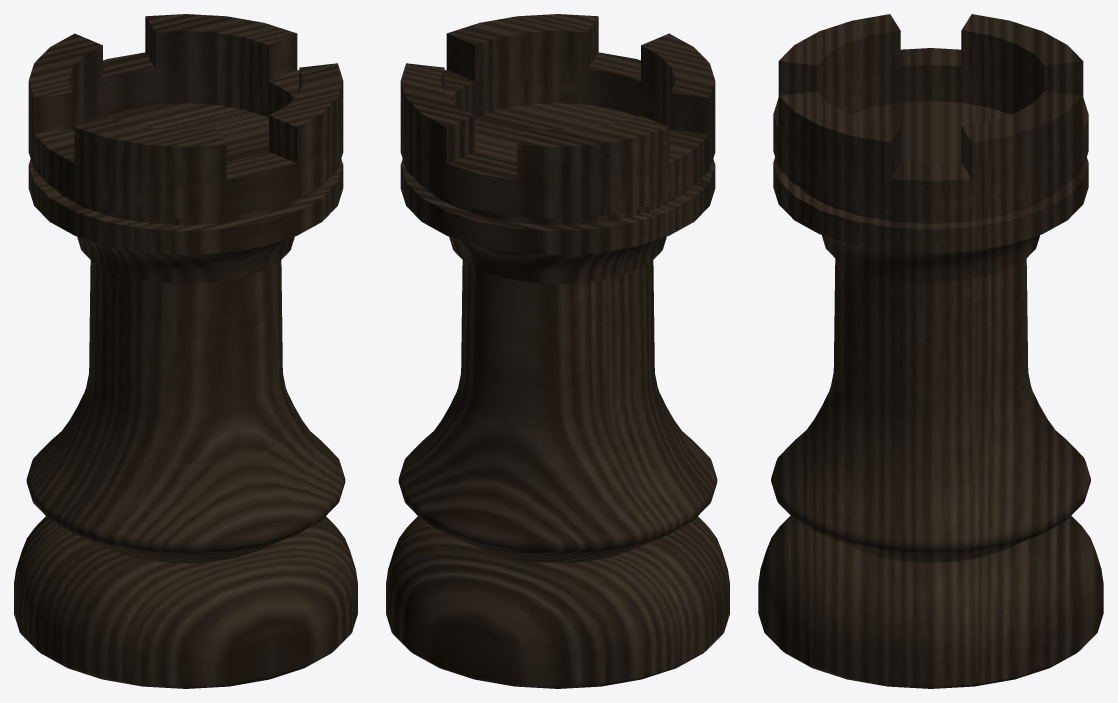
Rendered from black_rook.gltf.
3 renders of one model, left to right at view 1: azimuth 30°, elevation 25°; view 2: azimuth 150°, elevation 25°; view 3: azimuth 270°, elevation 25°, orthographic.
Parts seen in each view (by area): view 1: Material2071, Material2074, Material2072, Material2073; view 2: Material2071, Material2074, Material2072, Material2073; view 3: Material2071, Material2074, Material2072, Material2073.
Part boxes in pixels (x1,y1,x2,y2): Material2071: (14, 260, 357, 688); Material2074: (28, 14, 343, 218); Material2072: (28, 159, 343, 284); Material2073: (56, 189, 315, 225); Material2071: (386, 260, 729, 688); Material2074: (400, 14, 715, 218); Material2072: (400, 159, 715, 284); Material2073: (428, 189, 687, 225); Material2071: (758, 259, 1103, 688); Material2074: (773, 14, 1088, 217); Material2072: (773, 157, 1088, 282); Material2073: (800, 187, 1061, 223).
Bounding box in the file's own units: 0.1811 × 0.3124 × 0.1811.
Materials: 1 (1 with a texture image).
